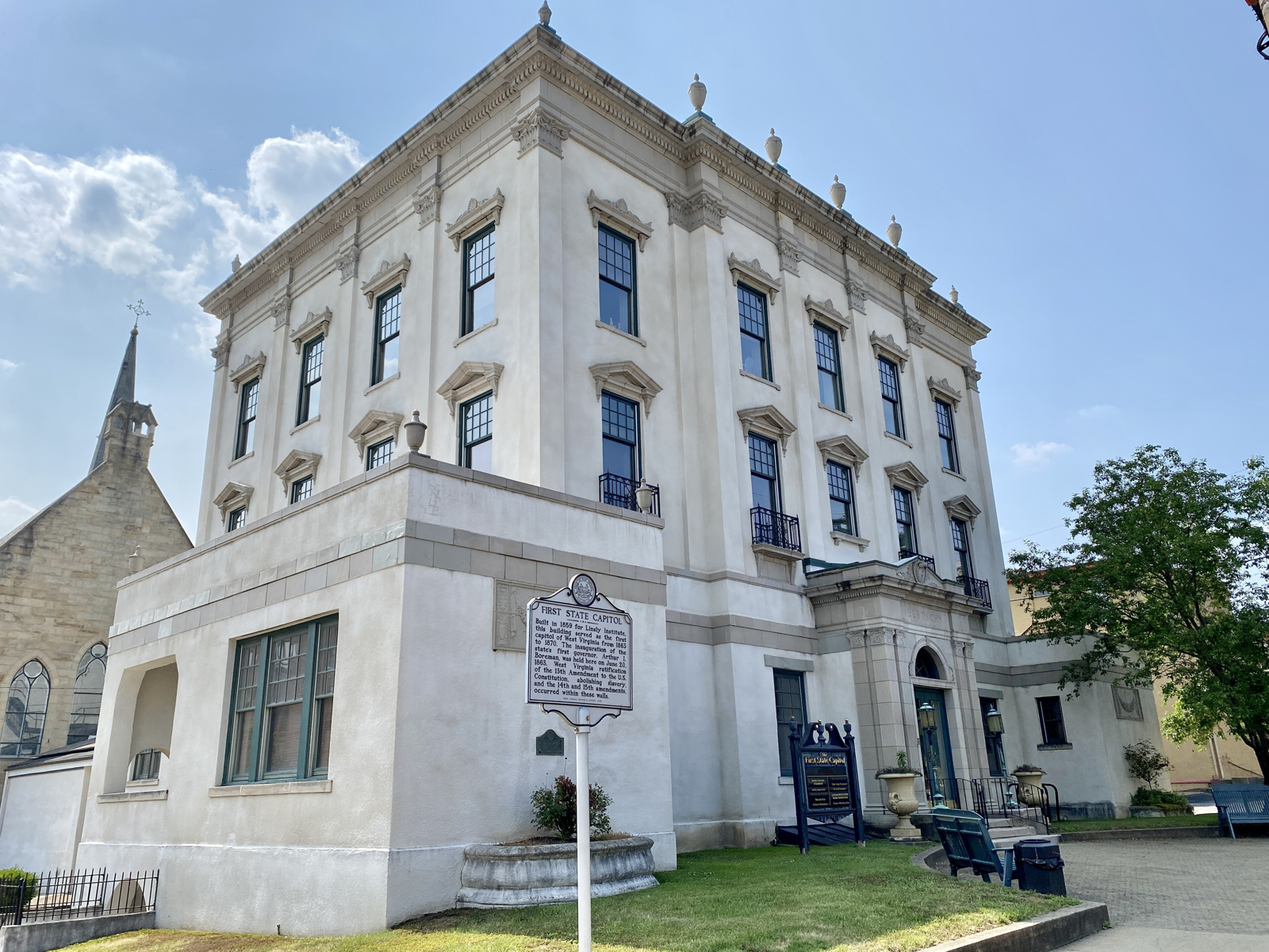fachada: (74, 11, 1166, 822), (3, 312, 180, 756), (1007, 566, 1269, 780)
